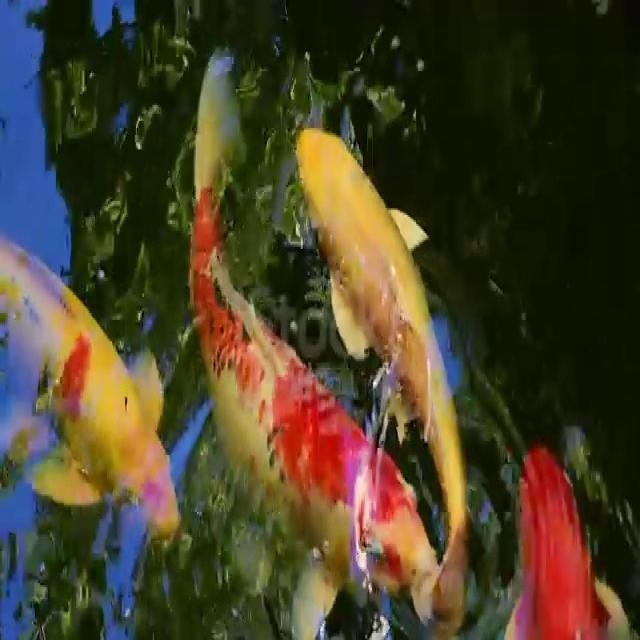fish: (182, 65, 438, 628), (277, 118, 485, 618), (3, 198, 180, 537), (513, 426, 616, 640)
